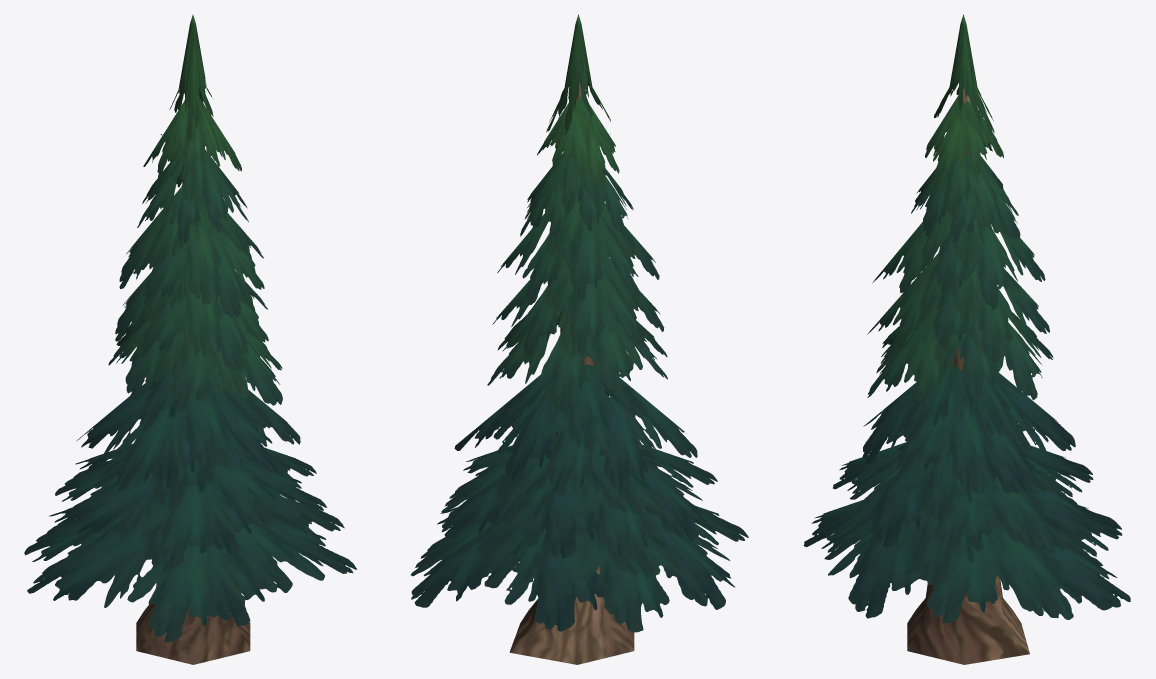
The model's file is Tree_B_3.fbx.
3 views of the same model, side by side, from view 1: azimuth 30°, elevation 25°; view 2: azimuth 150°, elevation 25°; view 3: azimuth 270°, elevation 25° (orthographic).
Parts seen in each view (by area): view 1: Tree_B_3_Clone_, Tree_B_Trunk; view 2: Tree_B_3_Clone_, Tree_B_Trunk; view 3: Tree_B_3_Clone_, Tree_B_Trunk.
Boxes of the visible parts, <box> form: Tree_B_3_Clone_: <box>24,15,357,642</box>; Tree_B_Trunk: <box>136,96,250,664</box>; Tree_B_3_Clone_: <box>411,14,748,632</box>; Tree_B_Trunk: <box>509,82,634,664</box>; Tree_B_3_Clone_: <box>803,14,1130,623</box>; Tree_B_Trunk: <box>907,87,1029,664</box>.
Bounding box in the file's own units: 0.9627 × 1.61 × 0.8337.
